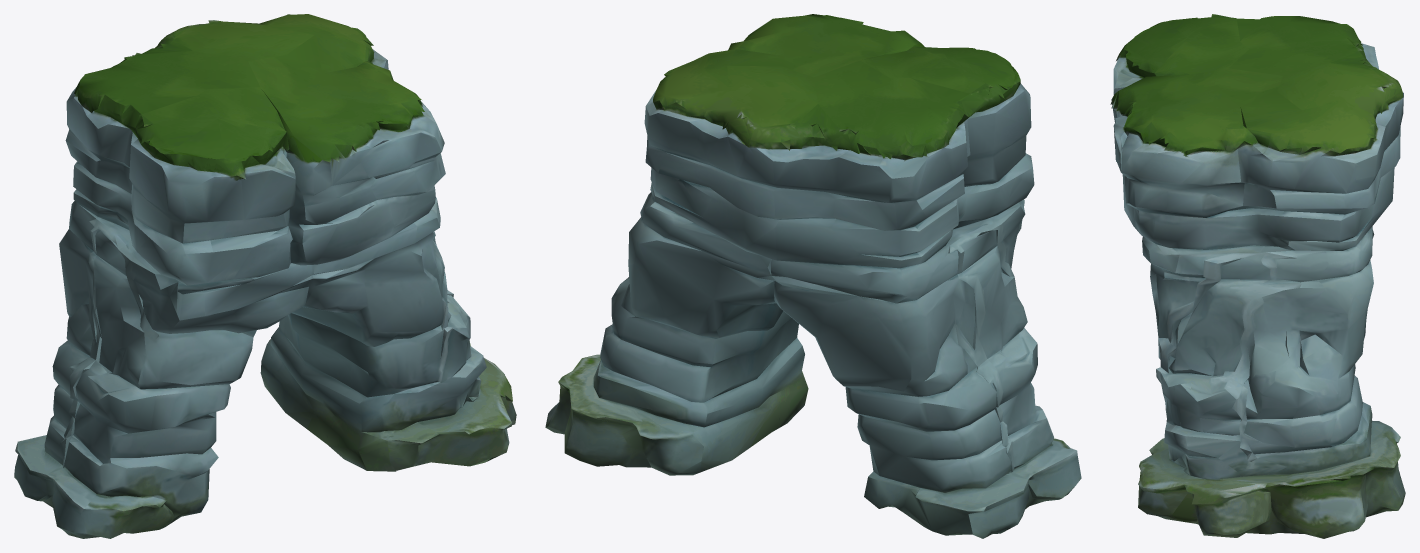
3 views of the same model, side by side, from view 1: azimuth 30°, elevation 25°; view 2: azimuth 150°, elevation 25°; view 3: azimuth 270°, elevation 25° (orthographic). The views are drawn at different scales.
Parts seen in each view (by area): view 1: sea_stack; view 2: sea_stack; view 3: sea_stack.
Boxes of the visible parts, <box> form: sea_stack: <box>14,14,516,538</box>; sea_stack: <box>545,14,1081,538</box>; sea_stack: <box>1110,14,1405,538</box>.
Size of the model in its own units: 0.9814 by 0.8167 by 0.5905.
Materials: 1 (1 with a texture image).
